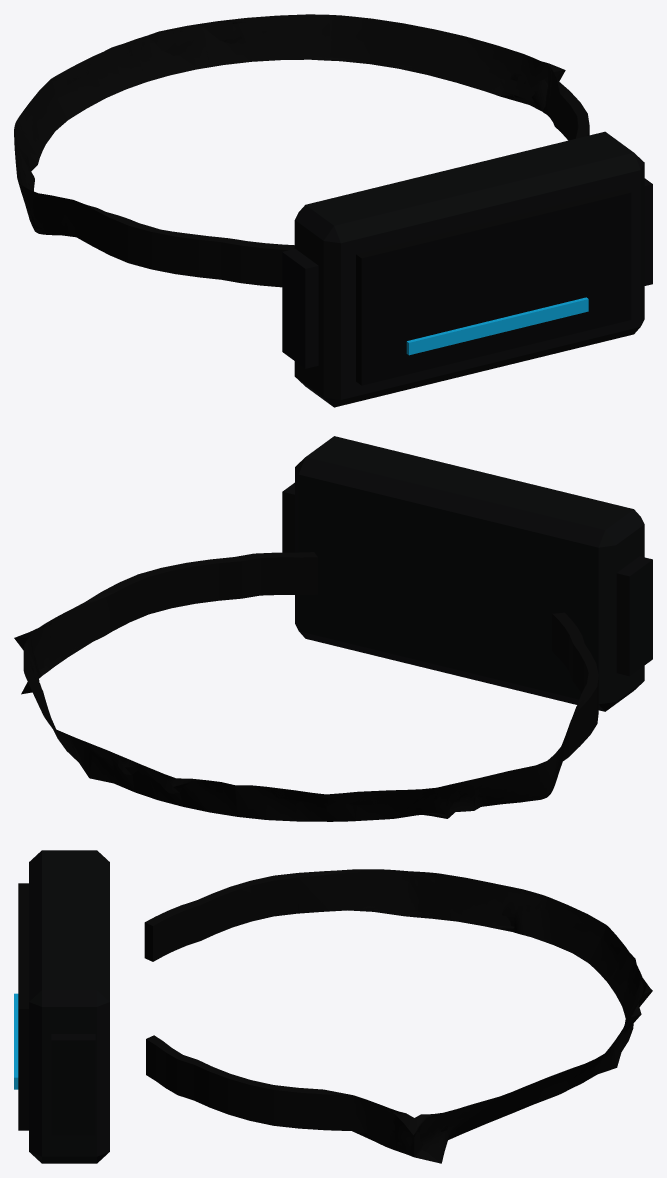
The model's file is eyes_vr_male_lo.glb.
3 views of the same model, one above another, from view 1: azimuth 30°, elevation 25°; view 2: azimuth 150°, elevation 25°; view 3: azimuth 270°, elevation 25° (orthographic). The views are drawn at different scales.
Parts seen in each view (by area): view 1: eyes_vr_v5_male; view 2: eyes_vr_v5_male; view 3: eyes_vr_v5_male.
Boxes of the visible parts, <box> form: eyes_vr_v5_male: <box>14,14,652,407</box>; eyes_vr_v5_male: <box>14,436,652,821</box>; eyes_vr_v5_male: <box>14,850,652,1163</box>.
Bounding box in the file's own units: 0.5517 × 0.1778 × 0.5929.
